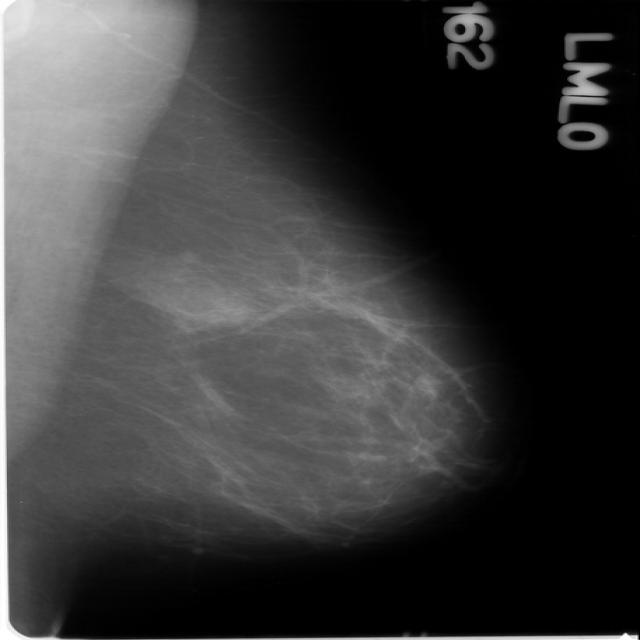tumour: (412, 369, 441, 395)
